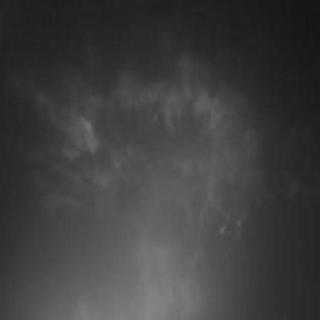Fire: (6, 44, 306, 316)
